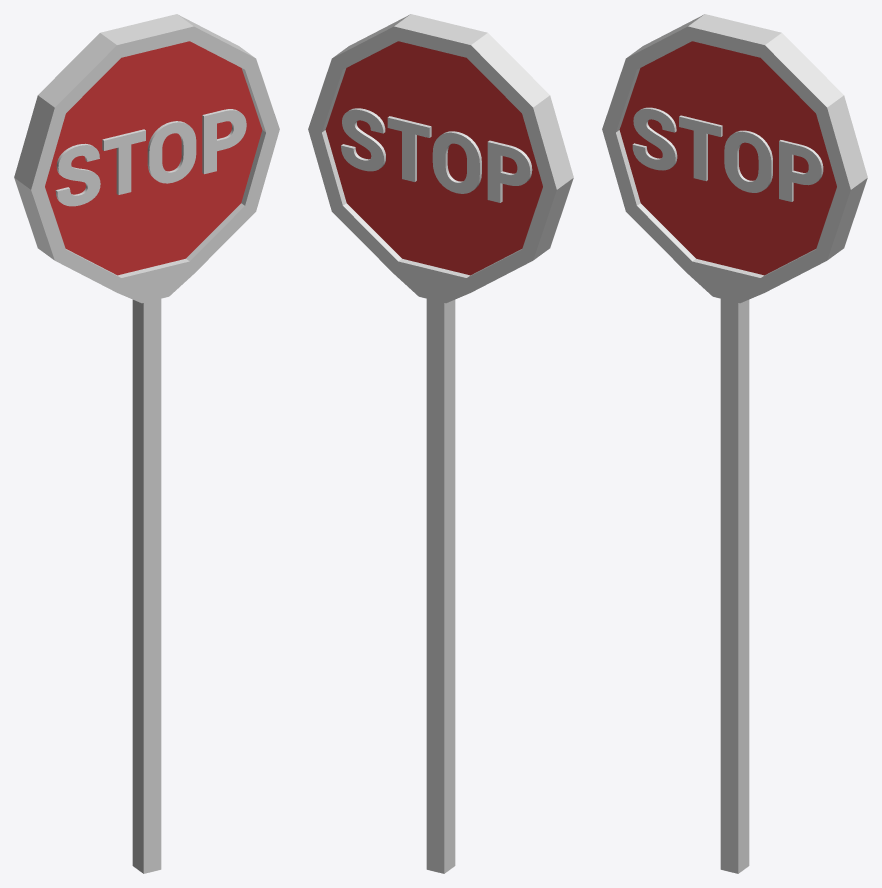
Rendered from 45 Sign_board_2.fbx.
3 renders of one model, left to right at view 1: azimuth 30°, elevation 25°; view 2: azimuth 150°, elevation 25°; view 3: azimuth 330°, elevation 25°, orthographic.
Visible parts, largest first — view 1: Stop_Sign; view 2: Stop_Sign; view 3: Stop_Sign.
Part boxes in pixels (x1,y1,x2,y2): Stop_Sign: [14, 14, 279, 873]; Stop_Sign: [308, 14, 573, 873]; Stop_Sign: [602, 14, 867, 873].
Bounding box in the file's own units: 19.05 × 61.34 × 2.26.
